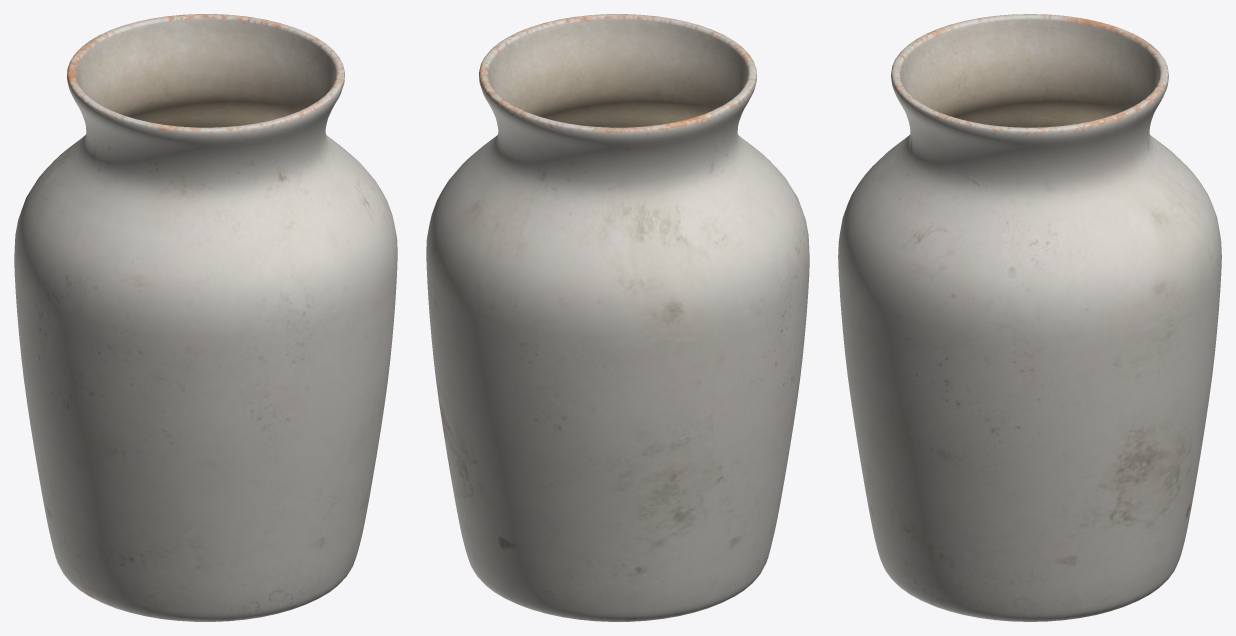
Rendered from ceramic_vase_02.glb.
3 renders of one model, left to right at view 1: azimuth 30°, elevation 25°; view 2: azimuth 150°, elevation 25°; view 3: azimuth 270°, elevation 25°, orthographic.
Parts seen in each view (by area): view 1: ceramic_vase_02; view 2: ceramic_vase_02; view 3: ceramic_vase_02.
Part boxes in pixels (x1,y1,x2,y2): ceramic_vase_02: (14, 14, 397, 621); ceramic_vase_02: (426, 14, 809, 621); ceramic_vase_02: (838, 14, 1221, 621).
Size of the model in its own units: 0.2184 by 0.3092 by 0.2184.
1 material, 1 textured.
